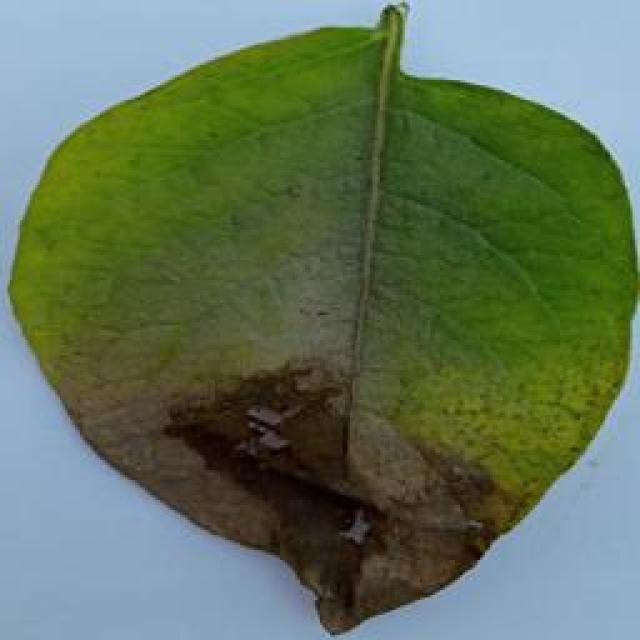Potato_Late_Blight: (10, 6, 627, 634)
